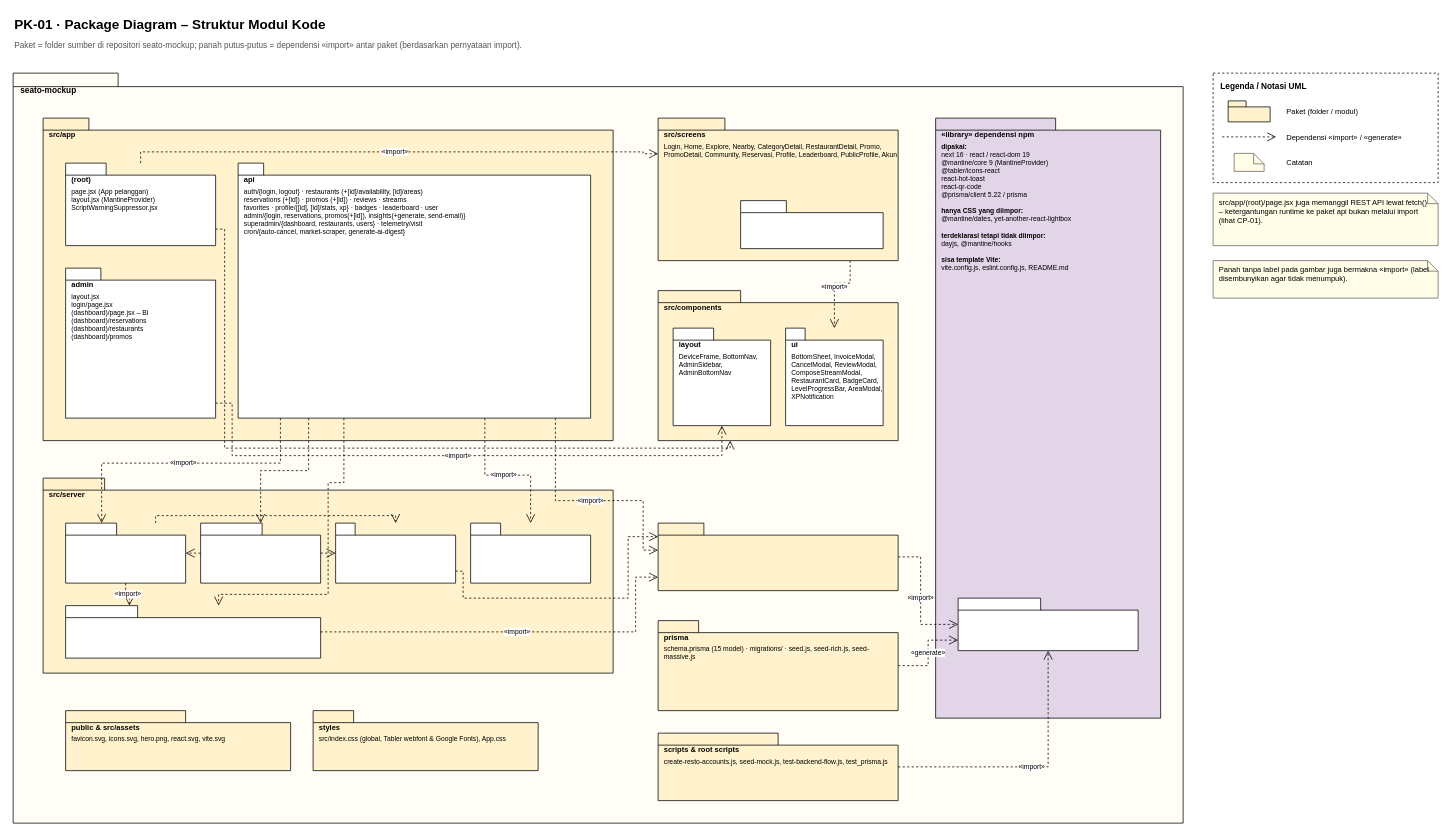
The diagram is 1451 pixels wide and 836 high, and some of its shapes have lost their labels. Here are the shapes that lost their labels. From the top down, the centre of each, then its label:
(x=811, y=224): profile AllBadges, EditProfile, Favorites, MyReviews, XPGuide
(x=125, y=552): services InsightService, EmailService
(x=260, y=552): schedulers CronJobs
(x=395, y=552): ai AiPipeline, LLMClient, promptTemplates, MarketScraper
(x=530, y=552): dtos insight.dto, telemetry.dto
(x=777, y=556): src/lib prisma.js – singleton PrismaClient
(x=193, y=631): repositories Restaurant-, Insight-, Reservation-, VisitorRepository
(x=1047, y=624): @prisma/client PrismaClient (hasil prisma generate)
